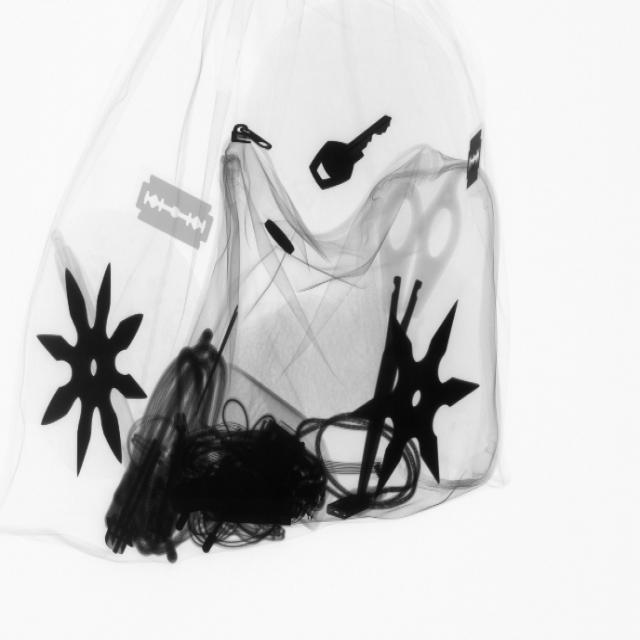BLADE: (131, 172, 222, 256), (457, 121, 493, 195)
SHURIKEN: (355, 281, 480, 495), (35, 259, 152, 480)
